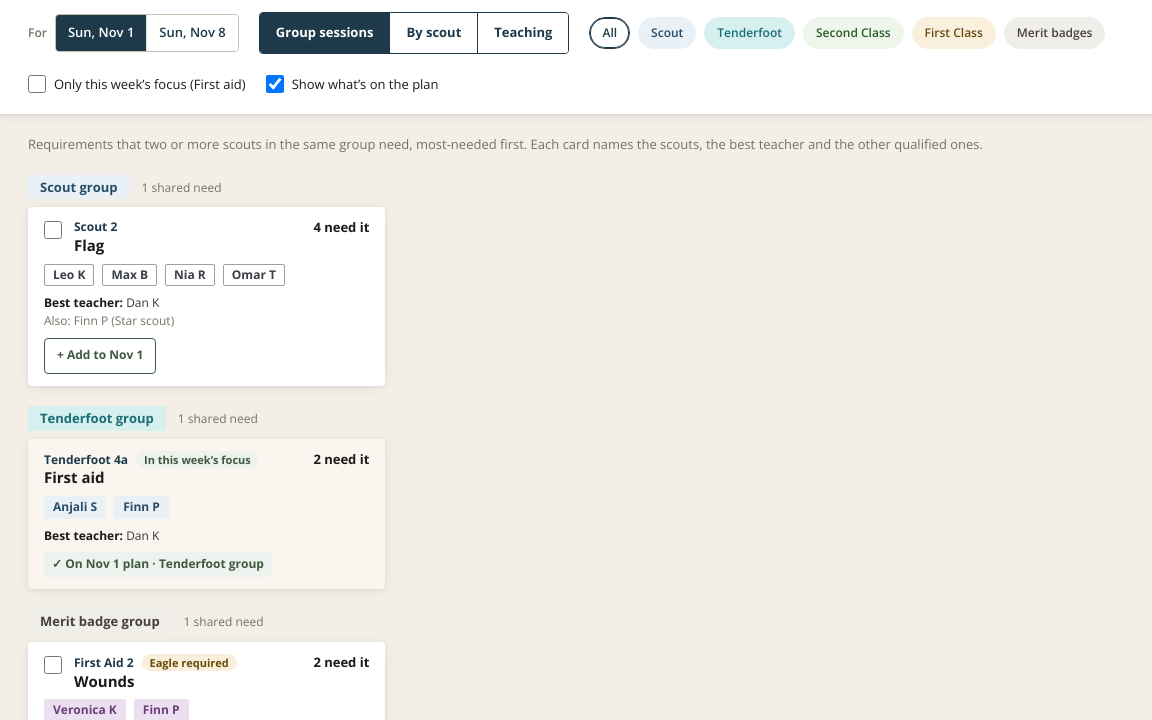
Test case: By scout › Scout_WithNothing_SaysWhy
What coordinates should you click on to do the following:
click the tab "By scout"
I would click on:
 (434, 33)
Its box is [390,13,478,53].
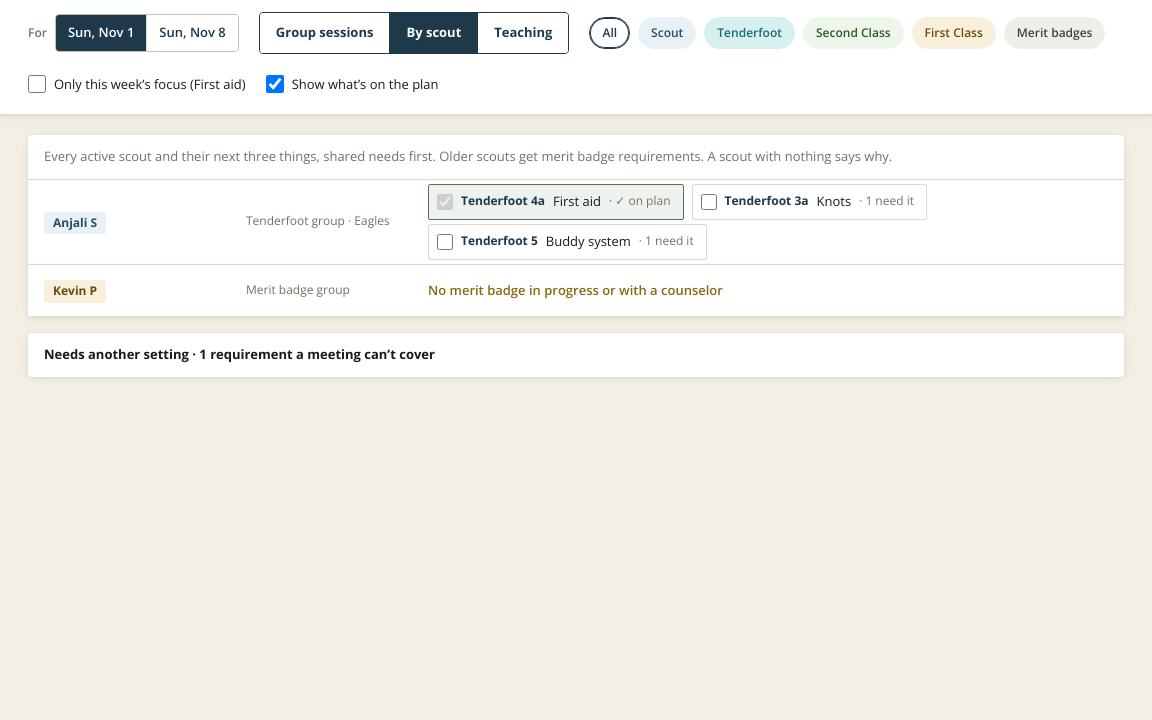
Result: the text "No merit badge in progress or with a counselor" is shown at [428,281,723,299]
